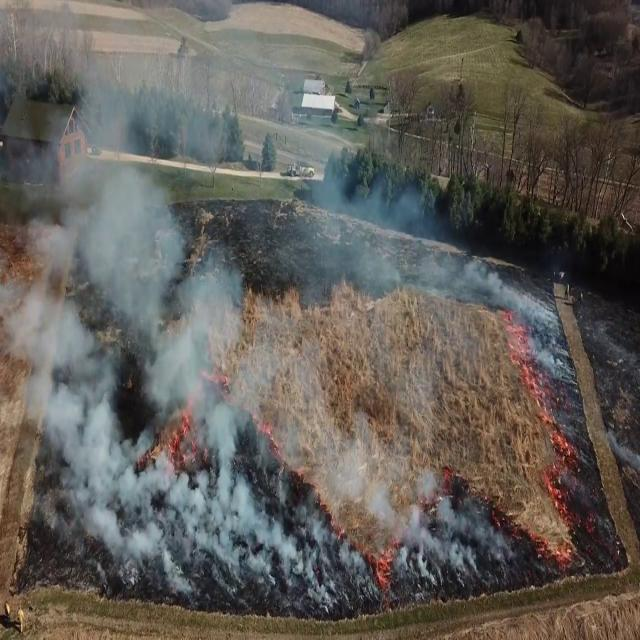Smoke: (0, 14, 492, 598)
